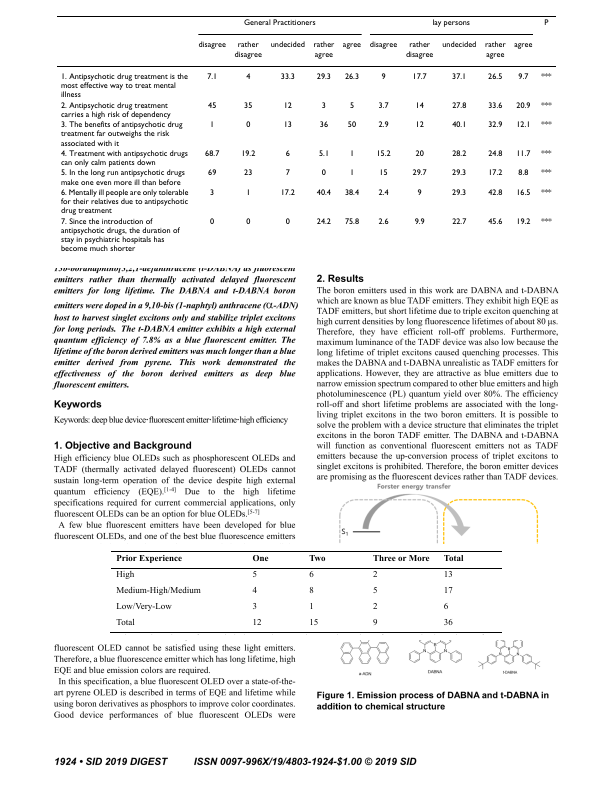borderless: (55, 14, 557, 262), (110, 549, 502, 632)
cell: (59, 217, 180, 254), (59, 188, 189, 216), (59, 72, 188, 100), (59, 120, 183, 149), (59, 168, 185, 188), (59, 149, 188, 168), (59, 101, 171, 120), (115, 586, 201, 596), (242, 18, 316, 28), (115, 553, 182, 563), (371, 553, 430, 563), (404, 41, 434, 60), (115, 602, 172, 612), (233, 41, 262, 60), (312, 41, 335, 60), (483, 41, 506, 60), (431, 18, 470, 28), (269, 41, 305, 50), (441, 41, 477, 50), (368, 41, 398, 50), (197, 41, 226, 50), (442, 553, 464, 563), (115, 570, 135, 580), (115, 618, 135, 628), (341, 41, 362, 50), (513, 41, 533, 50), (251, 553, 269, 563), (308, 553, 326, 563), (343, 188, 360, 198), (343, 217, 360, 227), (279, 72, 295, 82), (315, 72, 331, 82), (343, 72, 359, 82), (411, 72, 427, 82), (451, 72, 467, 82), (487, 72, 503, 82), (451, 101, 467, 111), (487, 101, 503, 111), (515, 101, 531, 111), (451, 120, 467, 130), (487, 120, 503, 130), (515, 120, 531, 130), (204, 149, 220, 159), (240, 149, 256, 159), (375, 149, 391, 159), (451, 149, 467, 159), (487, 149, 503, 159), (515, 149, 531, 159), (411, 168, 427, 178), (451, 168, 467, 178), (487, 168, 503, 178), (279, 188, 295, 198), (315, 188, 331, 198), (451, 188, 467, 198), (487, 188, 503, 198), (515, 188, 531, 198), (315, 217, 331, 227), (451, 217, 467, 227), (487, 217, 503, 227), (515, 217, 531, 227), (206, 72, 218, 82), (517, 72, 529, 82), (540, 72, 552, 82), (377, 101, 389, 111), (540, 101, 552, 111), (377, 120, 389, 130), (540, 120, 552, 130), (317, 149, 329, 159), (540, 149, 552, 159), (517, 168, 529, 178), (540, 168, 552, 178), (377, 188, 389, 198), (540, 188, 552, 198), (377, 217, 389, 227), (413, 217, 425, 227), (540, 217, 552, 227), (318, 120, 329, 130), (346, 120, 357, 130), (442, 570, 453, 580), (442, 586, 453, 596), (251, 618, 262, 628), (308, 618, 319, 628), (442, 618, 453, 628), (207, 101, 217, 111), (243, 101, 253, 111), (282, 101, 292, 111), (414, 101, 424, 111), (282, 120, 292, 130), (414, 120, 424, 130), (414, 149, 424, 159), (207, 168, 217, 178), (243, 168, 253, 178), (378, 168, 388, 178), (348, 101, 355, 111), (348, 149, 355, 159), (348, 168, 355, 178), (371, 570, 378, 580), (371, 586, 378, 596), (371, 602, 378, 612), (442, 602, 449, 612), (371, 618, 378, 628), (543, 18, 549, 28), (245, 72, 251, 82), (380, 72, 386, 82), (320, 101, 326, 111), (209, 120, 215, 130), (245, 120, 251, 130), (284, 149, 290, 159), (284, 168, 290, 178), (320, 168, 326, 178), (209, 188, 215, 198), (245, 188, 251, 198), (416, 188, 422, 198), (209, 217, 215, 227), (245, 217, 251, 227), (284, 217, 290, 227), (251, 570, 257, 580), (308, 570, 314, 580), (251, 586, 257, 596), (308, 586, 314, 596), (251, 602, 257, 612), (308, 602, 314, 612)
